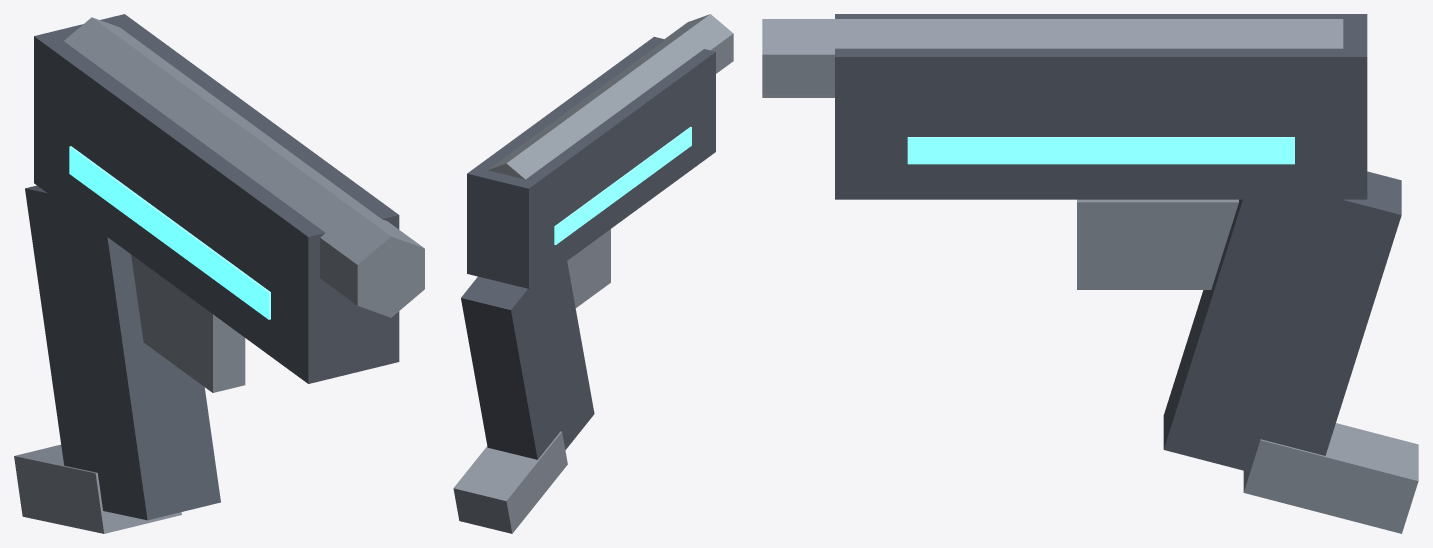
The model's file is weapon_pistol.glb.
3 renders of one model, left to right at view 1: azimuth 30°, elevation 25°; view 2: azimuth 150°, elevation 25°; view 3: azimuth 270°, elevation 25°, orthographic. The views are drawn at different scales.
Parts seen in each view (by area): view 1: Weapon_Pistol; view 2: Weapon_Pistol; view 3: Weapon_Pistol.
Boxes of the visible parts, x1,y1,x2,y2 form: Weapon_Pistol: (14,14,424,533); Weapon_Pistol: (453,14,733,533); Weapon_Pistol: (762,14,1418,533).
Size of the model in its own units: 0.044 by 0.2264 by 0.2711.
